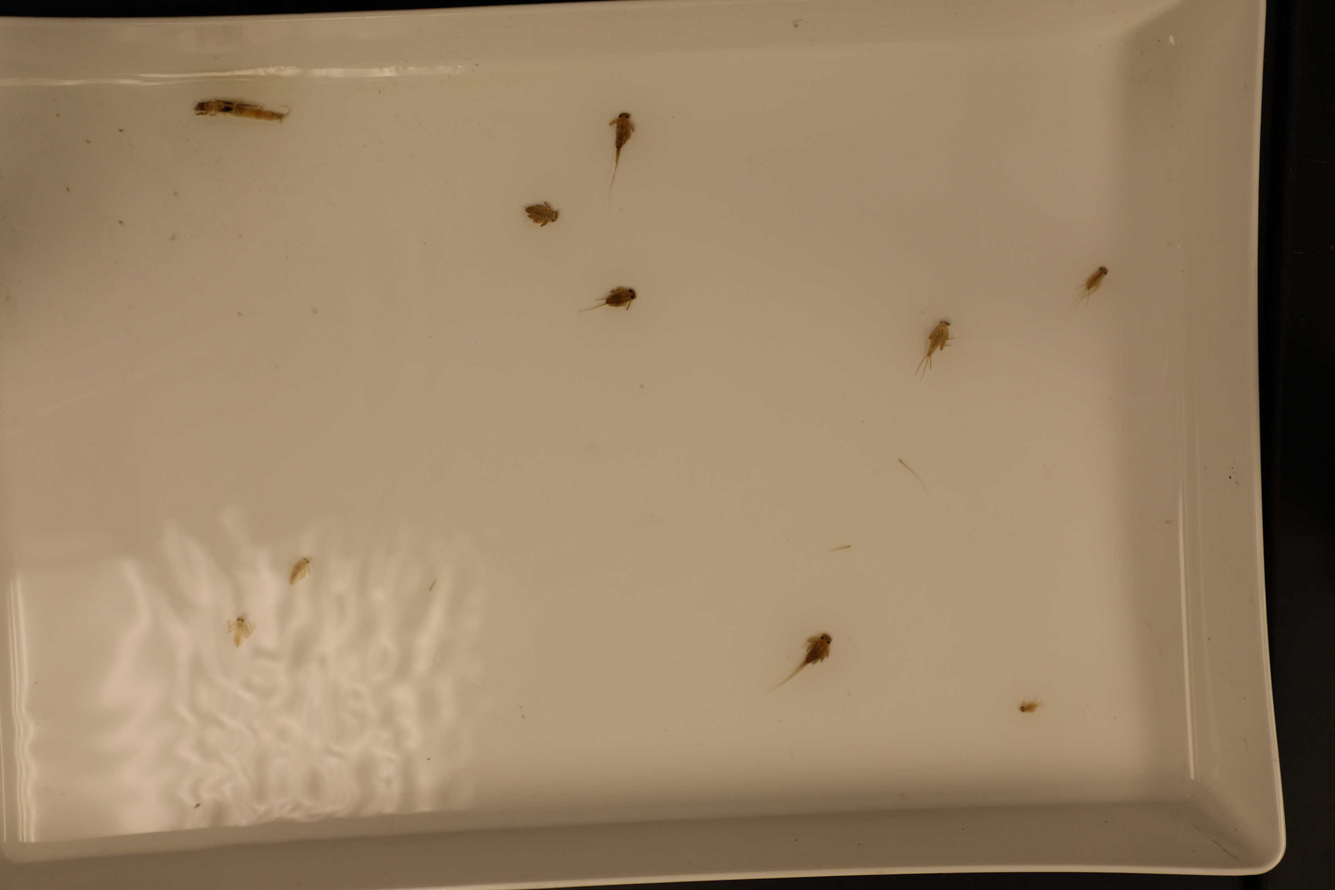Mayfly: (763, 631, 831, 702), (598, 109, 637, 201), (911, 315, 961, 383), (580, 282, 652, 317), (192, 101, 291, 124), (517, 198, 565, 230), (225, 611, 253, 656), (289, 550, 315, 589), (1080, 267, 1111, 294), (1017, 695, 1047, 717)
